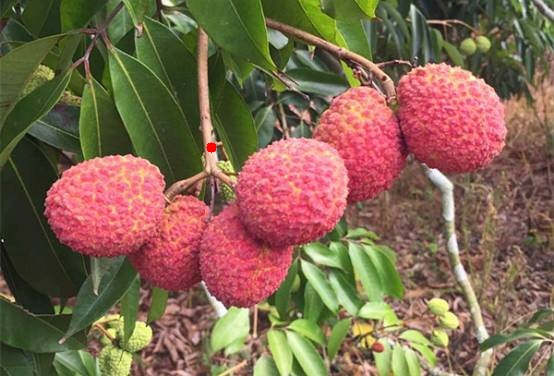litchi: (56, 144, 336, 303), (322, 71, 504, 191)
stem: (265, 19, 386, 83), (191, 27, 226, 183)
